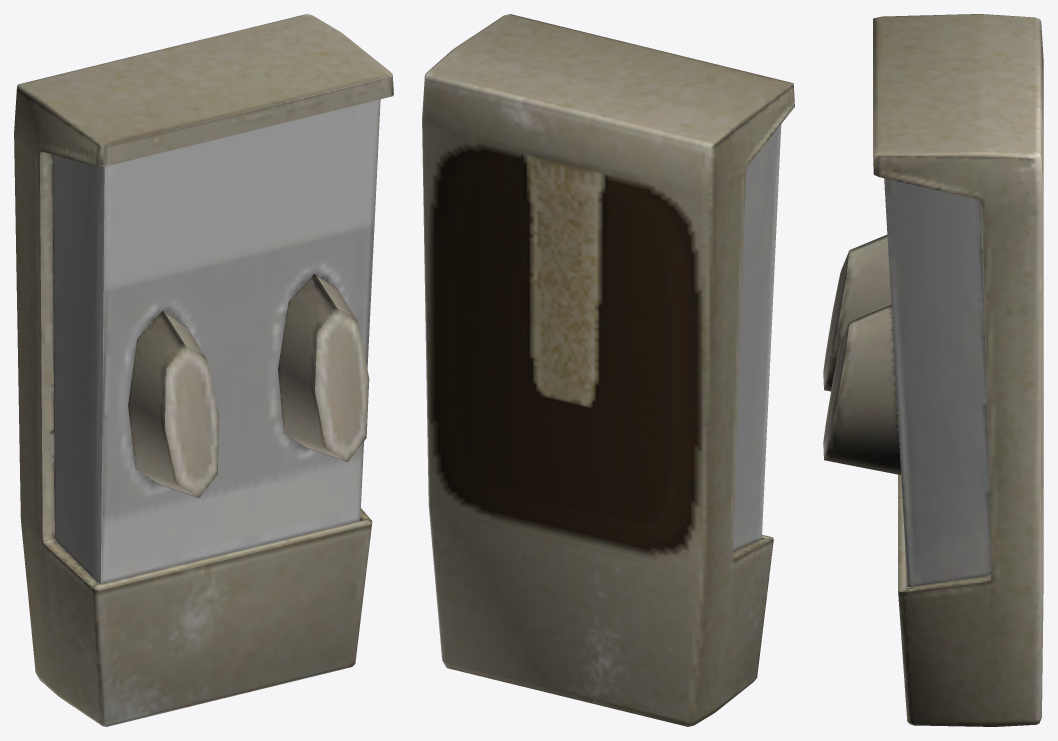
Rendered from nt_2020_remote_control_01_LOD0.obj.
The picture shows the model from 3 angles, left to right: view 1: azimuth 30°, elevation 25°; view 2: azimuth 150°, elevation 25°; view 3: azimuth 270°, elevation 25°; orthographic projection. The views are drawn at different scales.
Visible parts, largest first — view 1: mtl_nt_2020_remote_control_01; view 2: mtl_nt_2020_remote_control_01; view 3: mtl_nt_2020_remote_control_01.
Part boxes in pixels (<box>): mtl_nt_2020_remote_control_01: <box>14,14,393,726</box>; mtl_nt_2020_remote_control_01: <box>422,14,794,726</box>; mtl_nt_2020_remote_control_01: <box>823,14,1043,726</box>.
Bounding box in the file's own units: 10.48 × 19.86 × 6.77.
